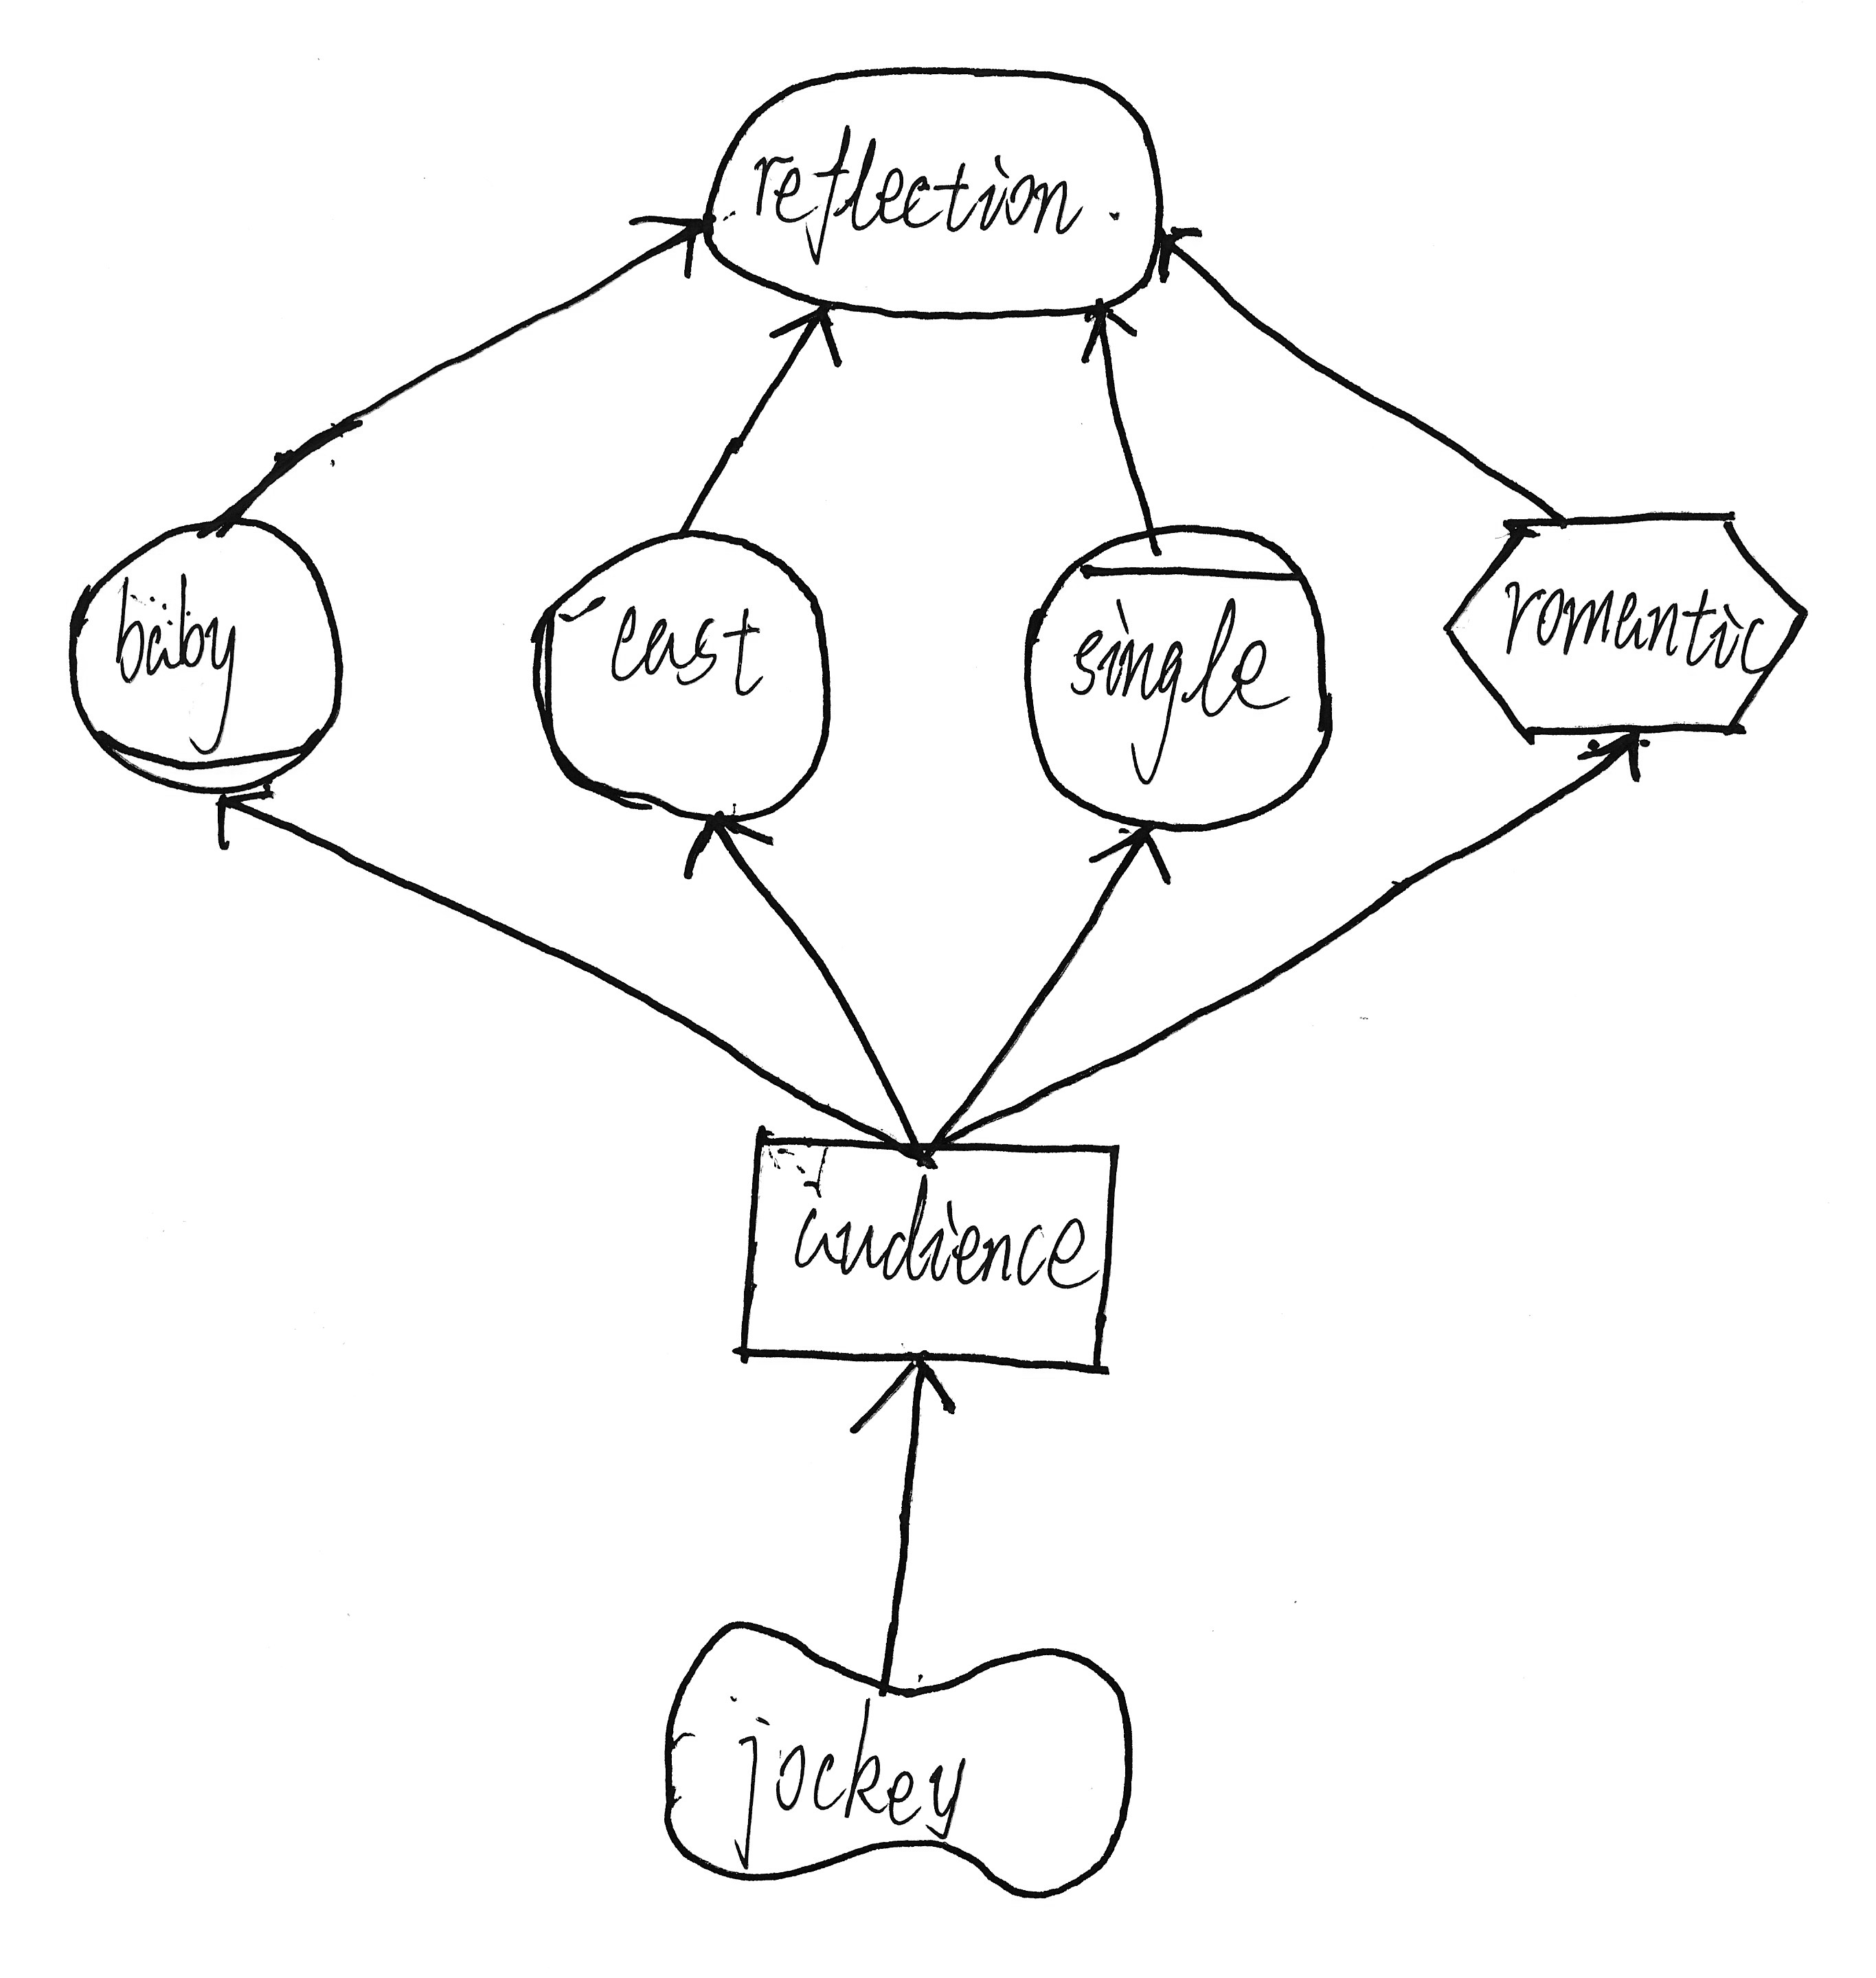actor: (511, 517, 855, 844)
agent: (1007, 513, 1349, 844)
arrow: (839, 1352, 975, 1447), (661, 809, 788, 892), (1067, 814, 1188, 901), (755, 300, 859, 390), (614, 194, 711, 286), (197, 777, 294, 859), (1063, 293, 1144, 376), (1566, 723, 1656, 793), (1143, 208, 1210, 300)
goal: (688, 49, 1188, 342)
quality: (626, 1601, 1167, 1916)
resource: (712, 1111, 1143, 1391)
role: (44, 499, 356, 806)
task: (1432, 488, 1823, 756)
